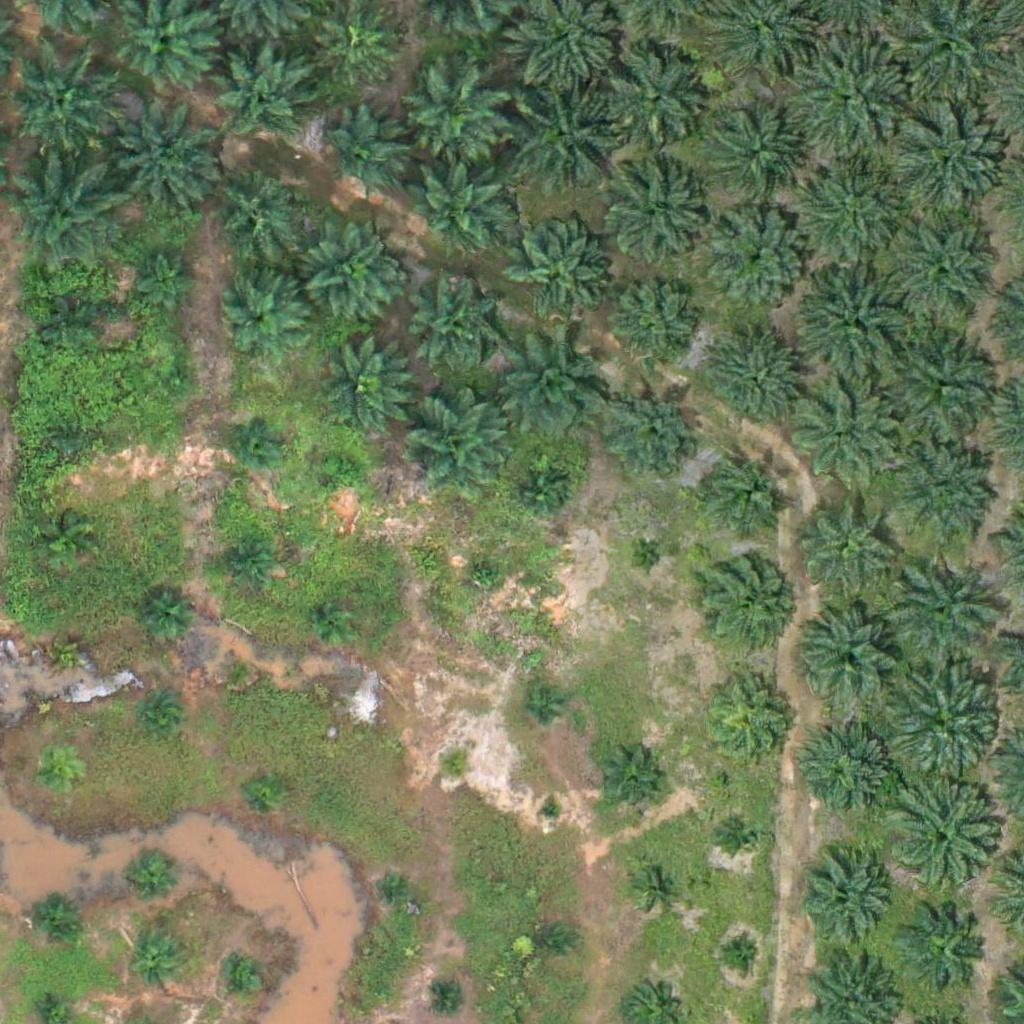Kelapa_Sawit: (789, 259, 914, 385), (786, 152, 911, 278), (786, 30, 911, 156), (887, 103, 1012, 229), (880, 323, 1005, 449), (878, 660, 1003, 785), (878, 779, 1003, 904), (109, 104, 222, 217), (509, 83, 622, 196), (500, 332, 613, 445), (885, 216, 998, 329), (887, 437, 1000, 550), (884, 555, 997, 668), (8, 48, 120, 161), (4, 156, 116, 269), (789, 382, 901, 495), (407, 156, 507, 257), (302, 225, 402, 326), (213, 43, 313, 144), (206, 162, 306, 263), (508, 223, 608, 324), (605, 171, 705, 272), (603, 50, 703, 151), (709, 209, 809, 310), (705, 334, 805, 435), (791, 488, 891, 589), (802, 605, 902, 706), (799, 724, 899, 825), (796, 852, 896, 953), (694, 443, 794, 544), (696, 549, 796, 650), (701, 670, 801, 771), (407, 397, 507, 498), (403, 66, 503, 166), (310, 337, 410, 437), (322, 110, 410, 198), (315, 2, 403, 90), (409, 280, 497, 368), (712, 114, 800, 202), (903, 907, 991, 995), (220, 277, 307, 366), (609, 388, 696, 477), (608, 281, 695, 369), (596, 751, 659, 814), (136, 245, 198, 308), (40, 514, 90, 565), (137, 594, 187, 645), (32, 751, 82, 802), (127, 852, 177, 903), (515, 465, 565, 516), (45, 623, 95, 674), (25, 891, 75, 941), (132, 936, 182, 986), (47, 303, 97, 353), (221, 539, 271, 589), (234, 416, 284, 466), (532, 923, 570, 961), (324, 451, 362, 489), (315, 602, 353, 640), (467, 558, 505, 596), (629, 539, 667, 577), (435, 748, 473, 786), (726, 817, 764, 855), (225, 960, 262, 998), (720, 934, 757, 972), (638, 867, 675, 905), (432, 978, 470, 1015), (53, 418, 90, 456), (158, 363, 195, 401), (519, 687, 556, 725), (216, 648, 253, 686), (142, 698, 179, 735), (247, 771, 284, 808), (378, 869, 415, 906), (538, 797, 563, 822)
